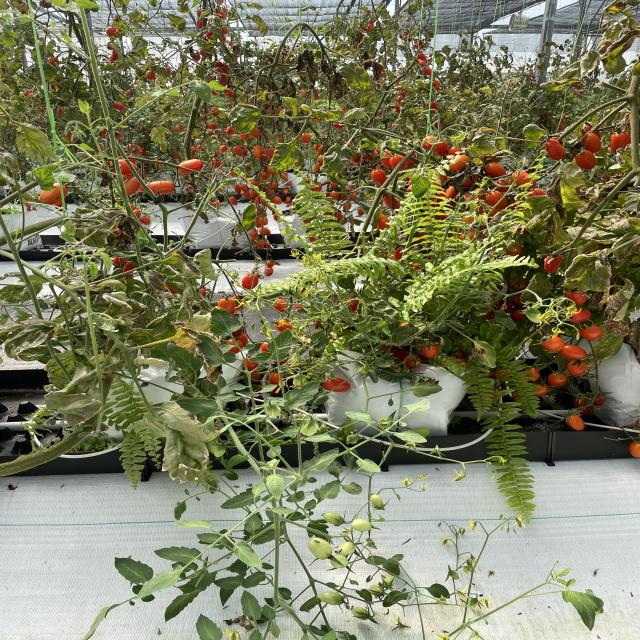Obstacle: (59, 204, 511, 358)
